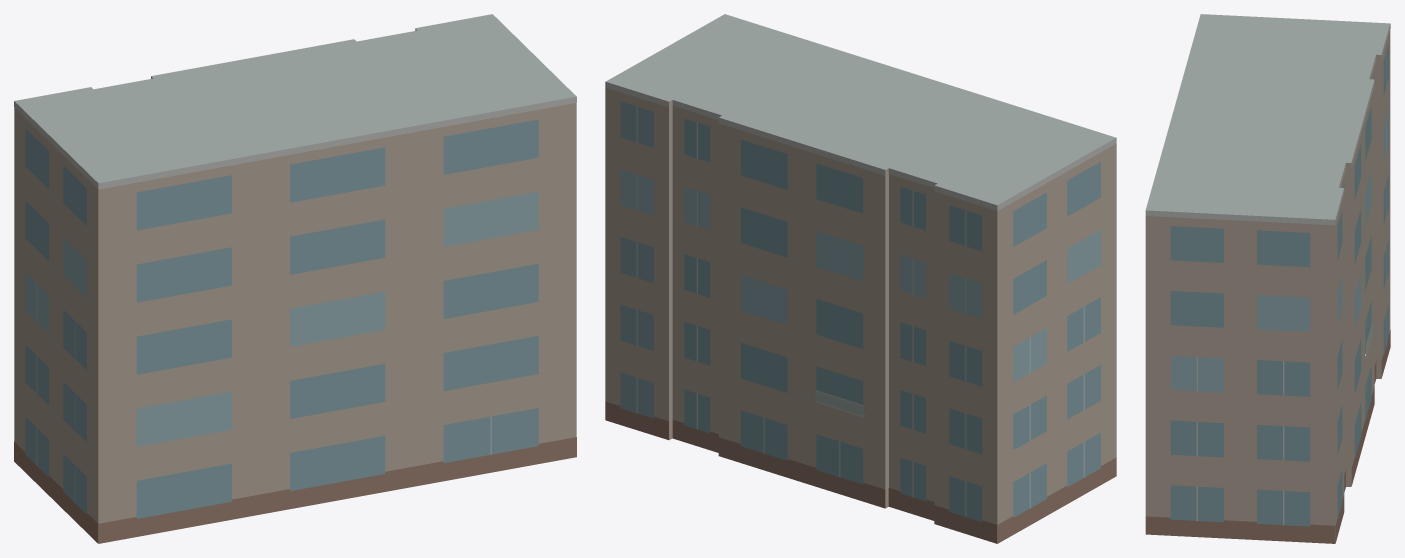
Rendered from survey-upis-32750076.glb.
3 views of the same model, side by side, from view 1: azimuth 30°, elevation 25°; view 2: azimuth 150°, elevation 25°; view 3: azimuth 270°, elevation 25° (orthographic). The views are drawn at different scales.
Visible parts, largest first — view 1: survey-upis-32750076.tmp; view 2: survey-upis-32750076.tmp; view 3: survey-upis-32750076.tmp.
Boxes of the visible parts, x1,y1,x2,y2 form: survey-upis-32750076.tmp: [14, 14, 576, 543]; survey-upis-32750076.tmp: [605, 14, 1116, 543]; survey-upis-32750076.tmp: [1145, 14, 1390, 543].
Bounding box in the file's own units: 19.35 × 14.2 × 9.74.
